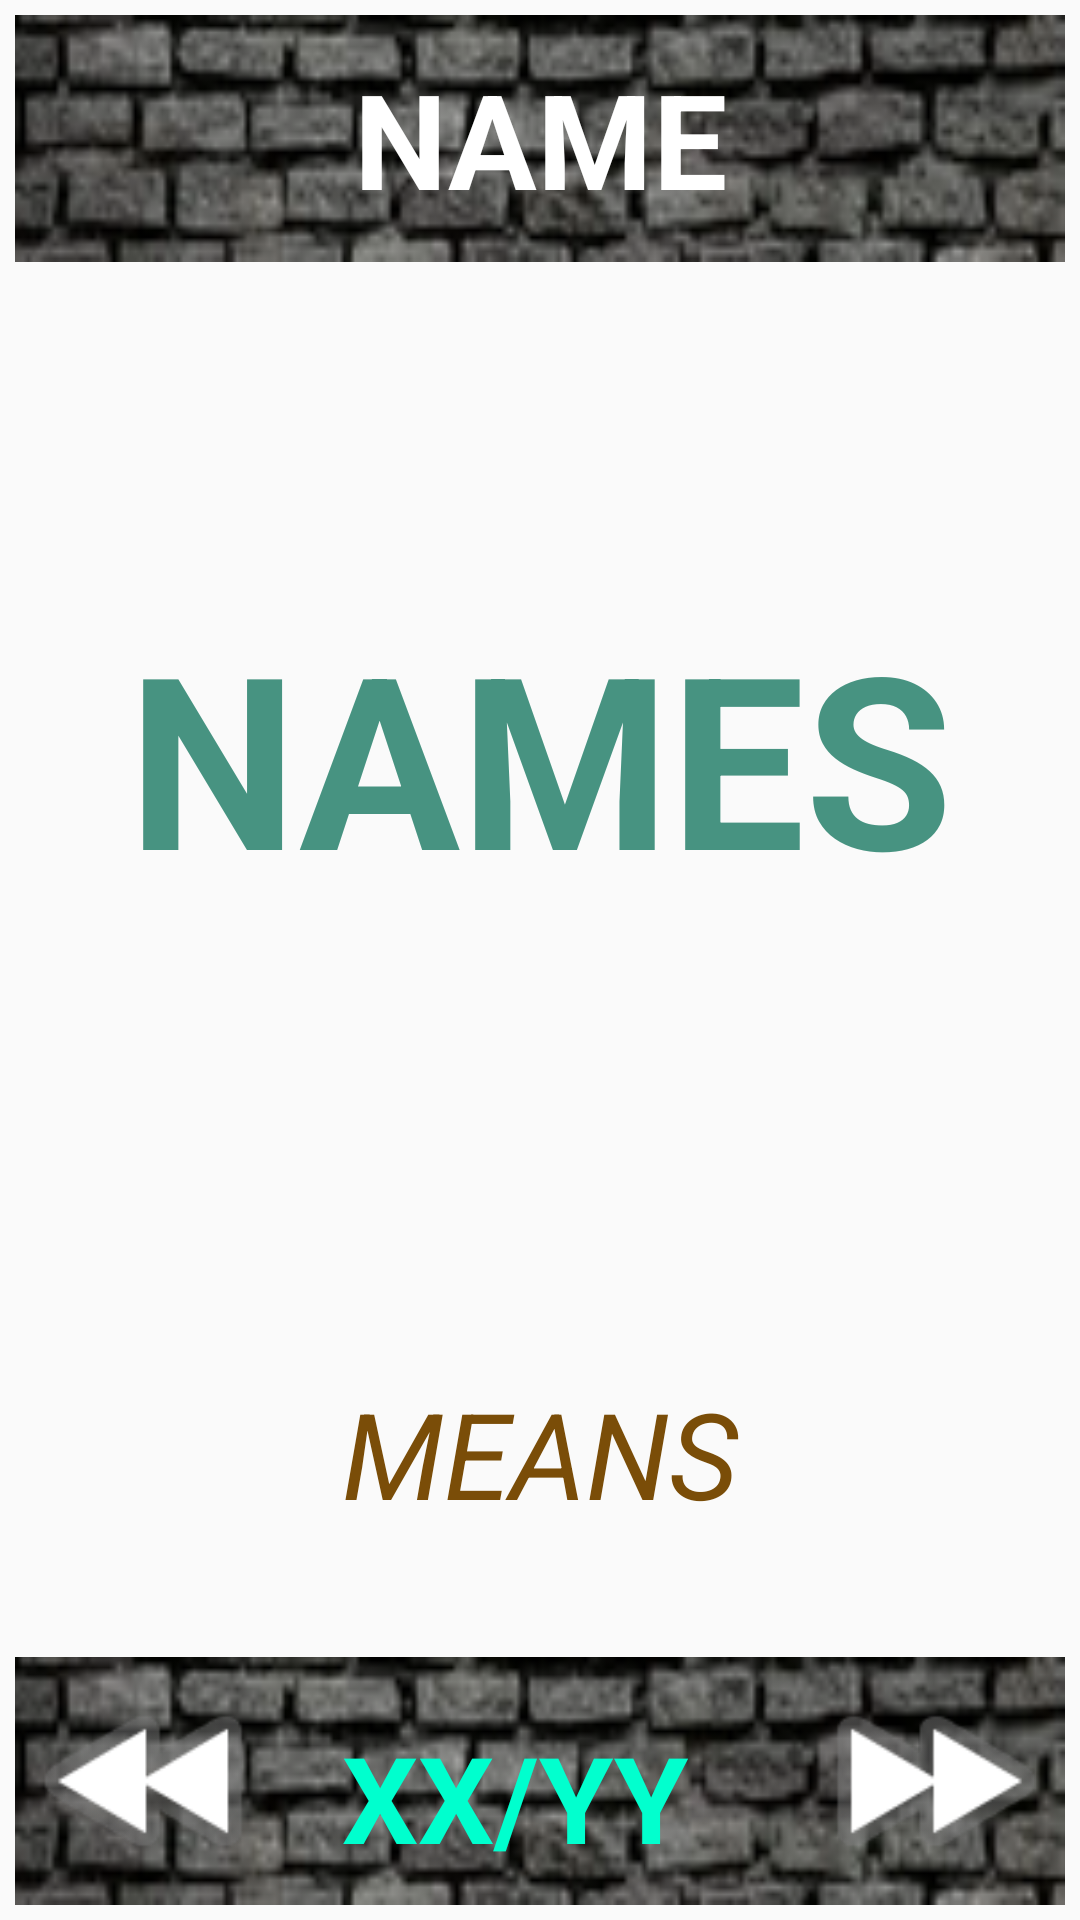

Where icons sit on this 1080*1920 app screen, as (x1, y1, x2, y2):
rew: (15, 1657, 277, 1905)
